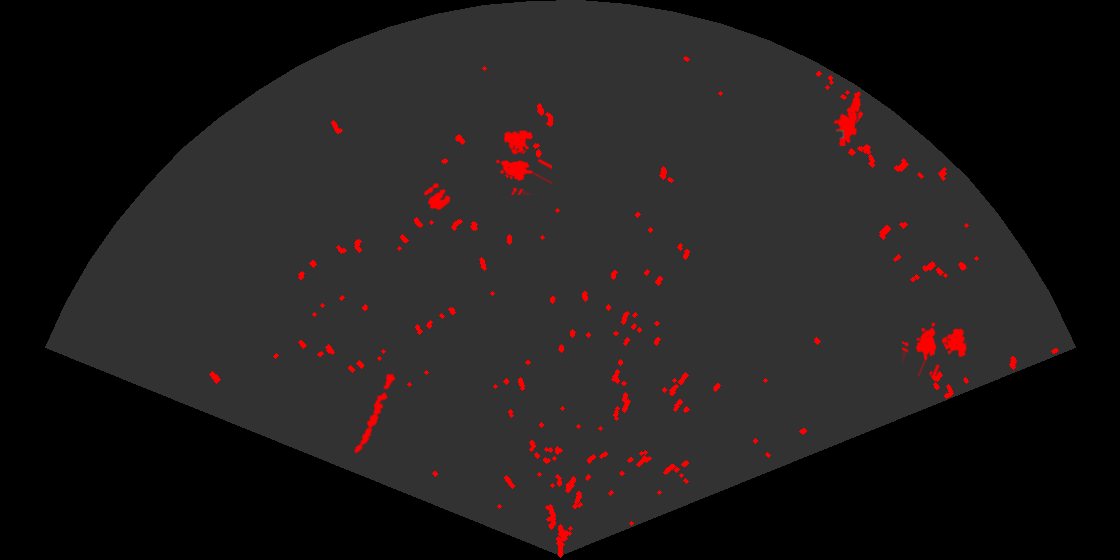ball: (422, 181, 452, 212)
cage: (494, 128, 552, 195), (902, 320, 968, 376)
chain: (352, 369, 397, 455)
frogman: (831, 90, 862, 146)
